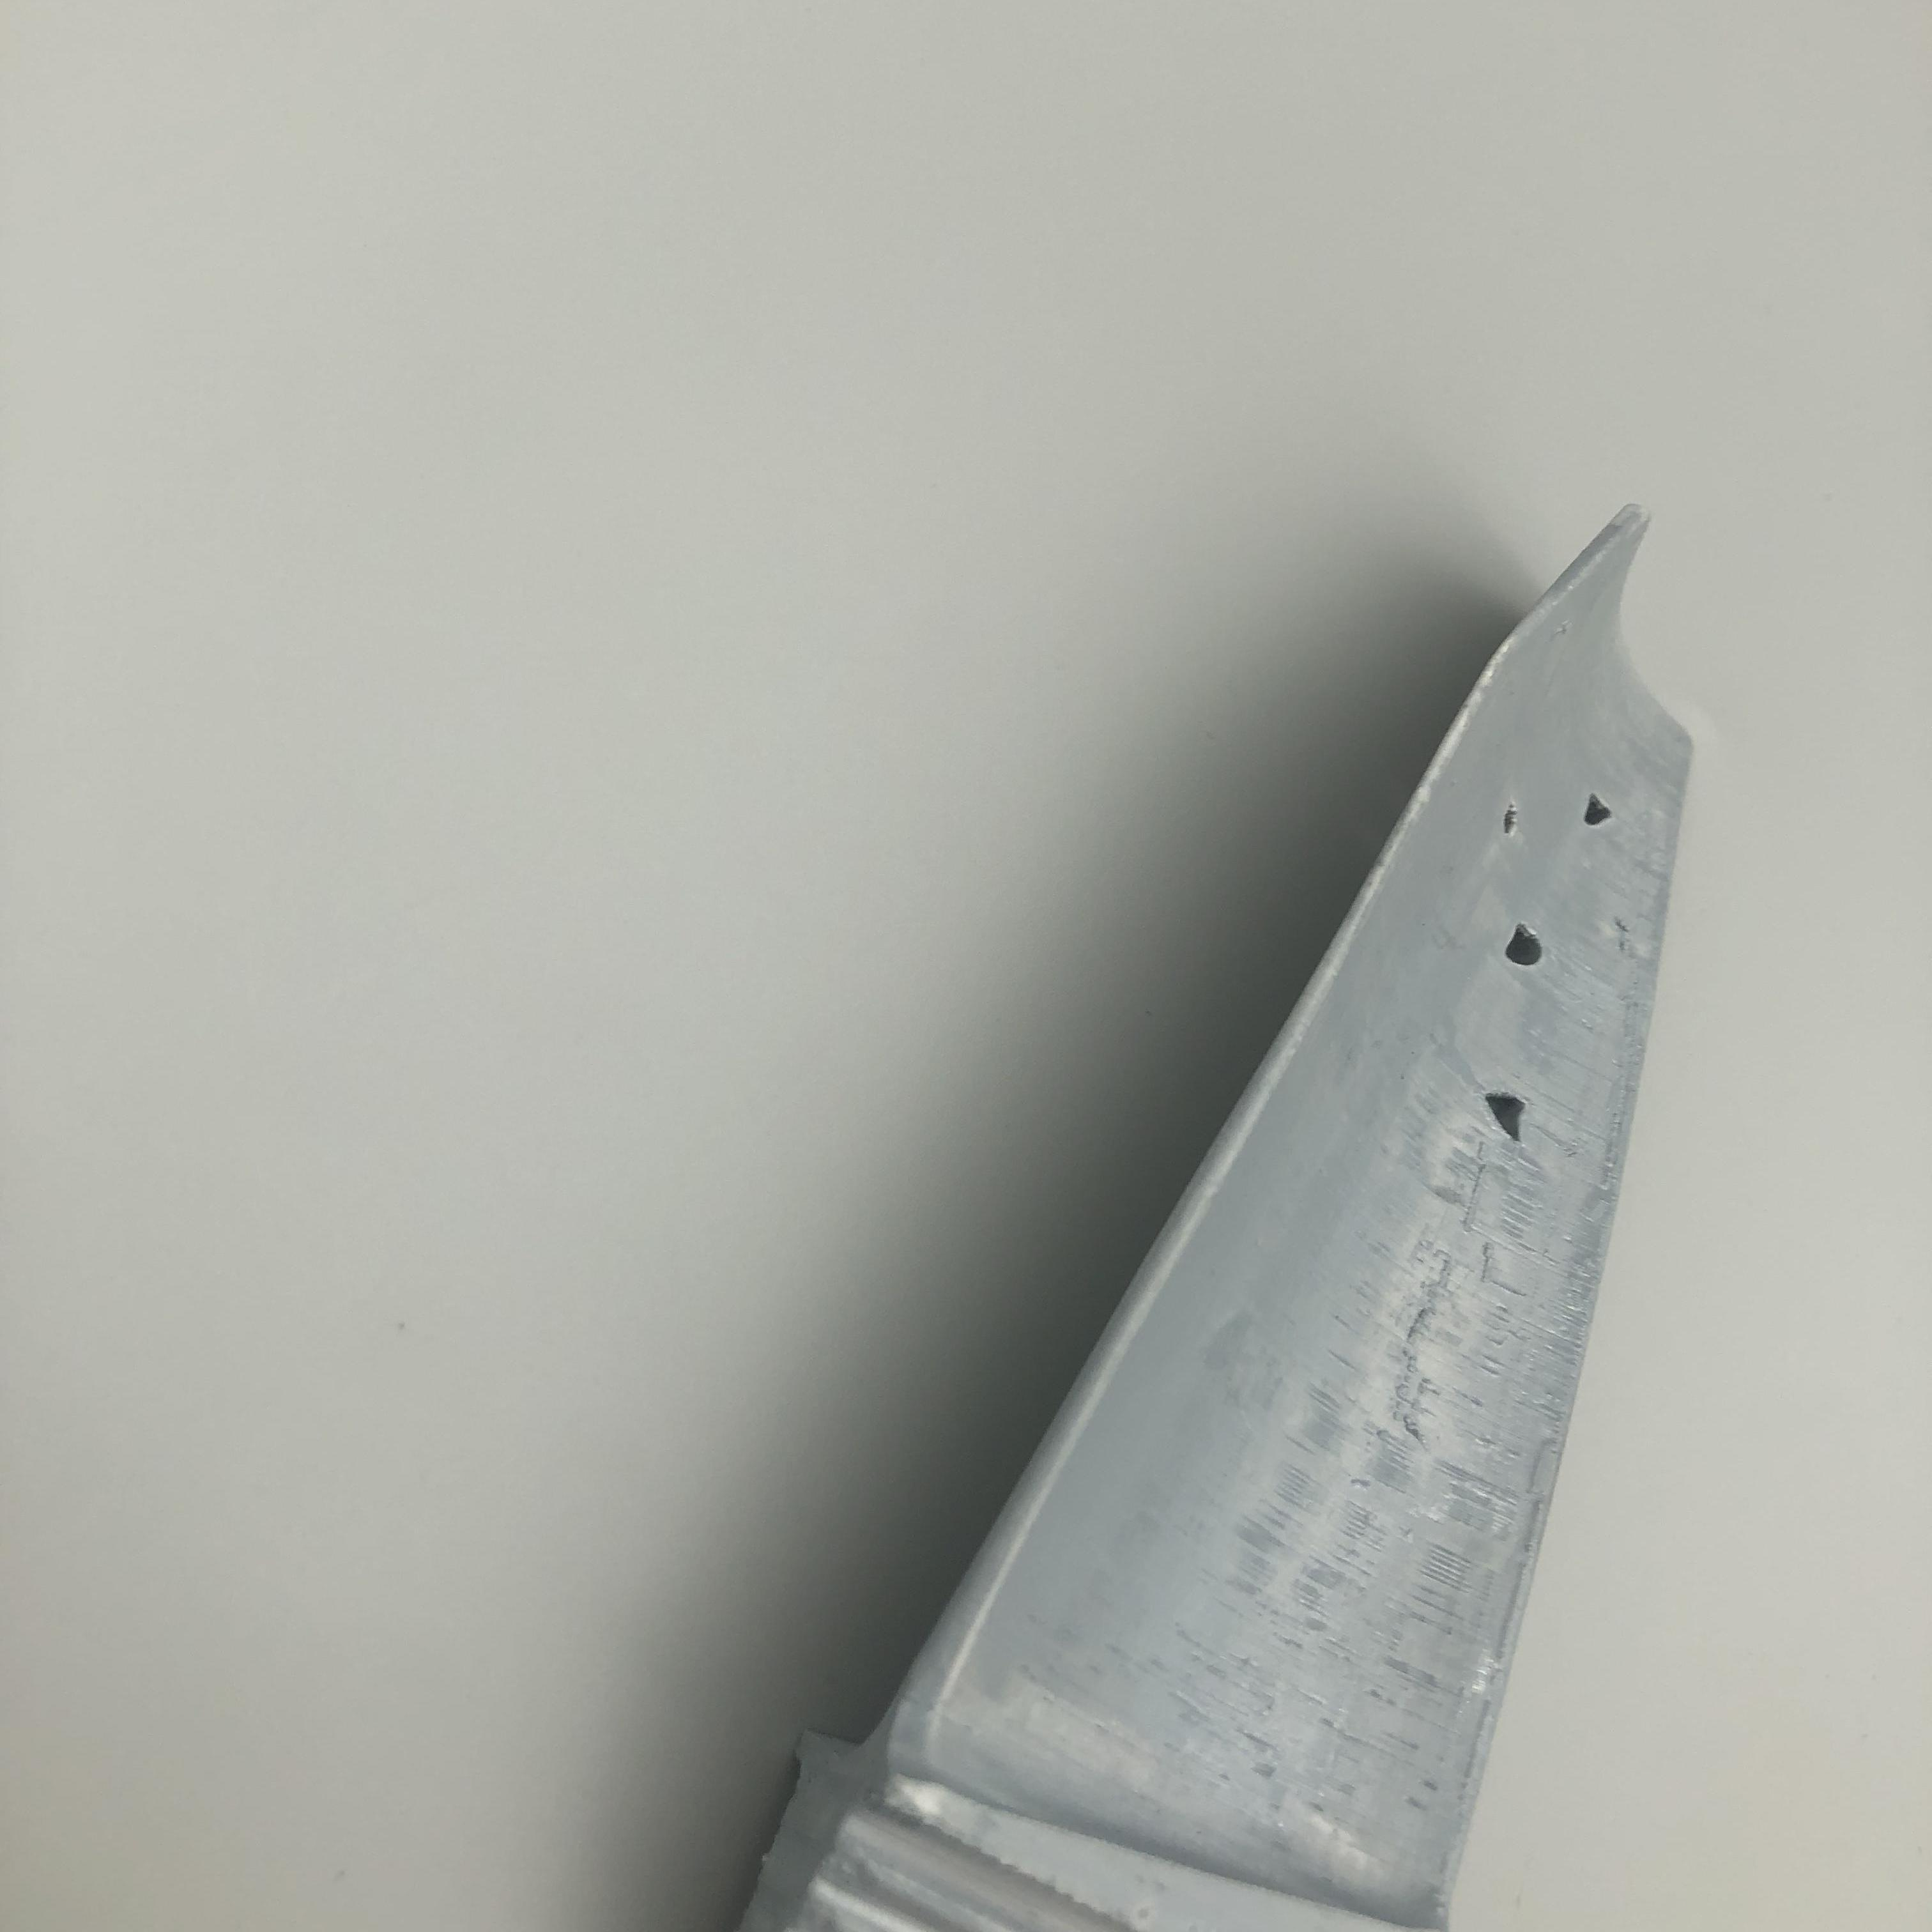breakdown: (1486, 780, 1629, 1159)
